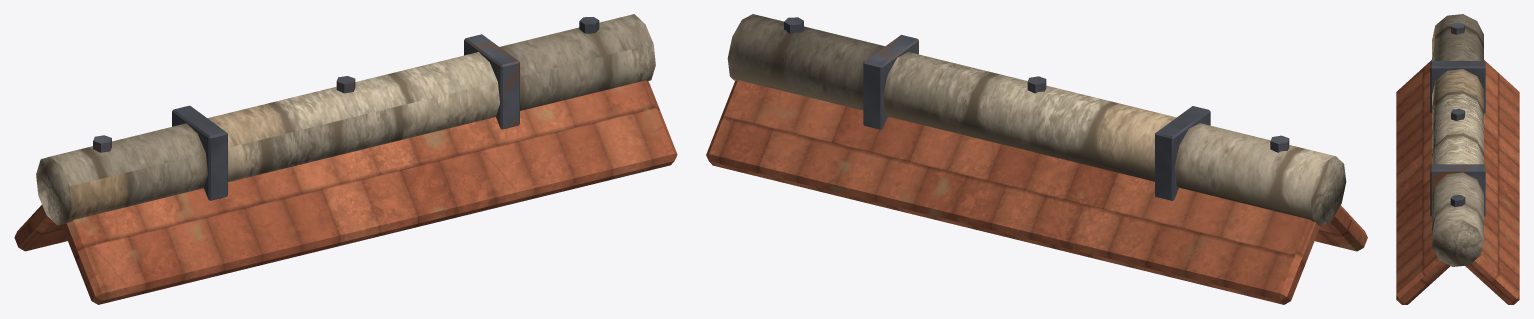
The model's file is cati_tepesi.glb.
3 renders of one model, left to right at view 1: azimuth 30°, elevation 25°; view 2: azimuth 150°, elevation 25°; view 3: azimuth 270°, elevation 25°, orthographic. The views are drawn at different scales.
Visible parts, largest first — view 1: cati_tepesi; view 2: cati_tepesi; view 3: cati_tepesi.
Part boxes in pixels (box(x1,y1,x2,y2)): cati_tepesi: box(14, 14, 677, 304); cati_tepesi: box(706, 14, 1367, 304); cati_tepesi: box(1396, 14, 1519, 304).
Size of the model in its own units: 3 by 0.6226 by 0.7566.
Materials: 1 (1 with a texture image).
